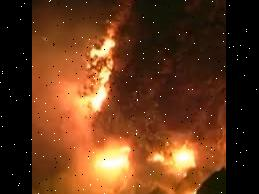fire: (71, 13, 219, 194)
